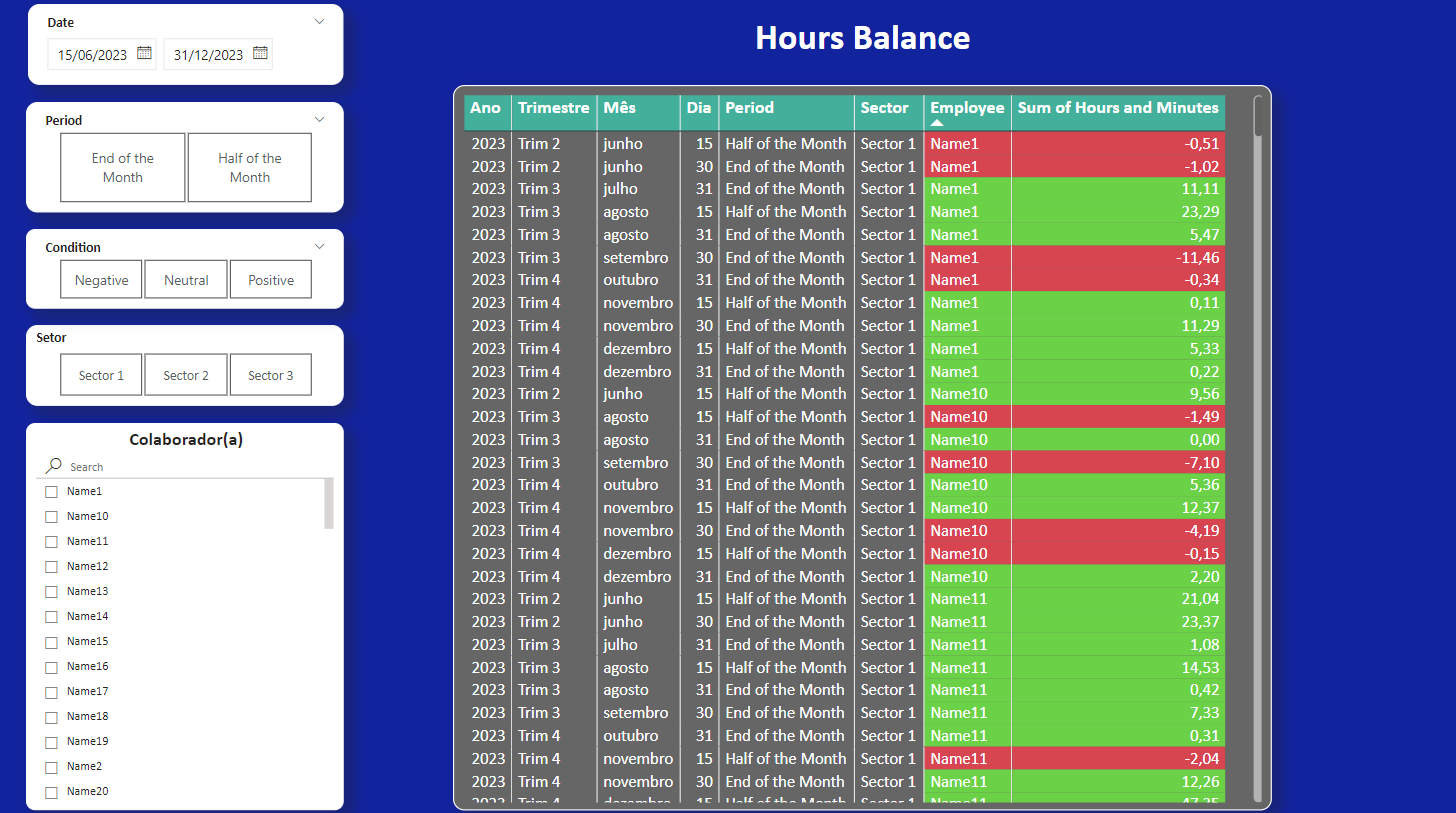

This screenshot's page, from the dashboard's own definition file:
{"tool":"powerbi","page":{"name":"Table","canvas":[1280,720],"ordinal":1},"visuals":[{"type":"slicer","fields":{"Values":["table.Date"]},"box":[24.6,7.9,277.5,71.1],"z":0},{"type":"slicer","title":"Setor","fields":{"Values":["table.Sector"]},"box":[22.8,290,279.2,71.1],"z":1000},{"type":"tableEx","fields":{"Values":["table.Date.Variation.Hierarquia de datas.Ano","table.Date.Variation.Hierarquia de datas.Trimestre","table.Date.Variation.Hierarquia de datas.Mês","table.Date.Variation.Hierarquia de datas.Dia","table.Period","table.Sector","table.Employee","Sum(table.Hours and Minutes)"]},"box":[397.8,79,719.1,636.6],"z":2000},{"type":"textbox","box":[534.7,12.3,446,49.2],"z":3000},{"type":"slicer","fields":{"Values":["table.Period"]},"box":[22.8,93.7,279.2,96.6],"z":4000},{"type":"slicer","title":"Colaborador(a)","fields":{"Values":["table.Employee"]},"box":[22.8,375.8,279.2,339.8],"z":5000},{"type":"slicer","fields":{"Values":["table.PositivNegativ"]},"box":[22.8,205,279.2,70.2],"z":7000}]}

Visuals, with their boxes in screenshot pixels (x1, y1, x2, y2), scaled from the page's 1280x720 canvas onto the 1456x813 screenshot:
slicer - table.Date: 28/9/344/89
"Setor" slicer: 26/327/344/408
tableEx - table.Date.Variation.Hierarquia de datas.Ano x table.Date.Variation.Hierarquia de datas.Trimestre: 452/89/1270/808
textbox: 608/14/1116/69
slicer - table.Period: 26/106/344/215
"Colaborador(a)" slicer: 26/424/344/808
slicer - table.PositivNegativ: 26/231/344/311
